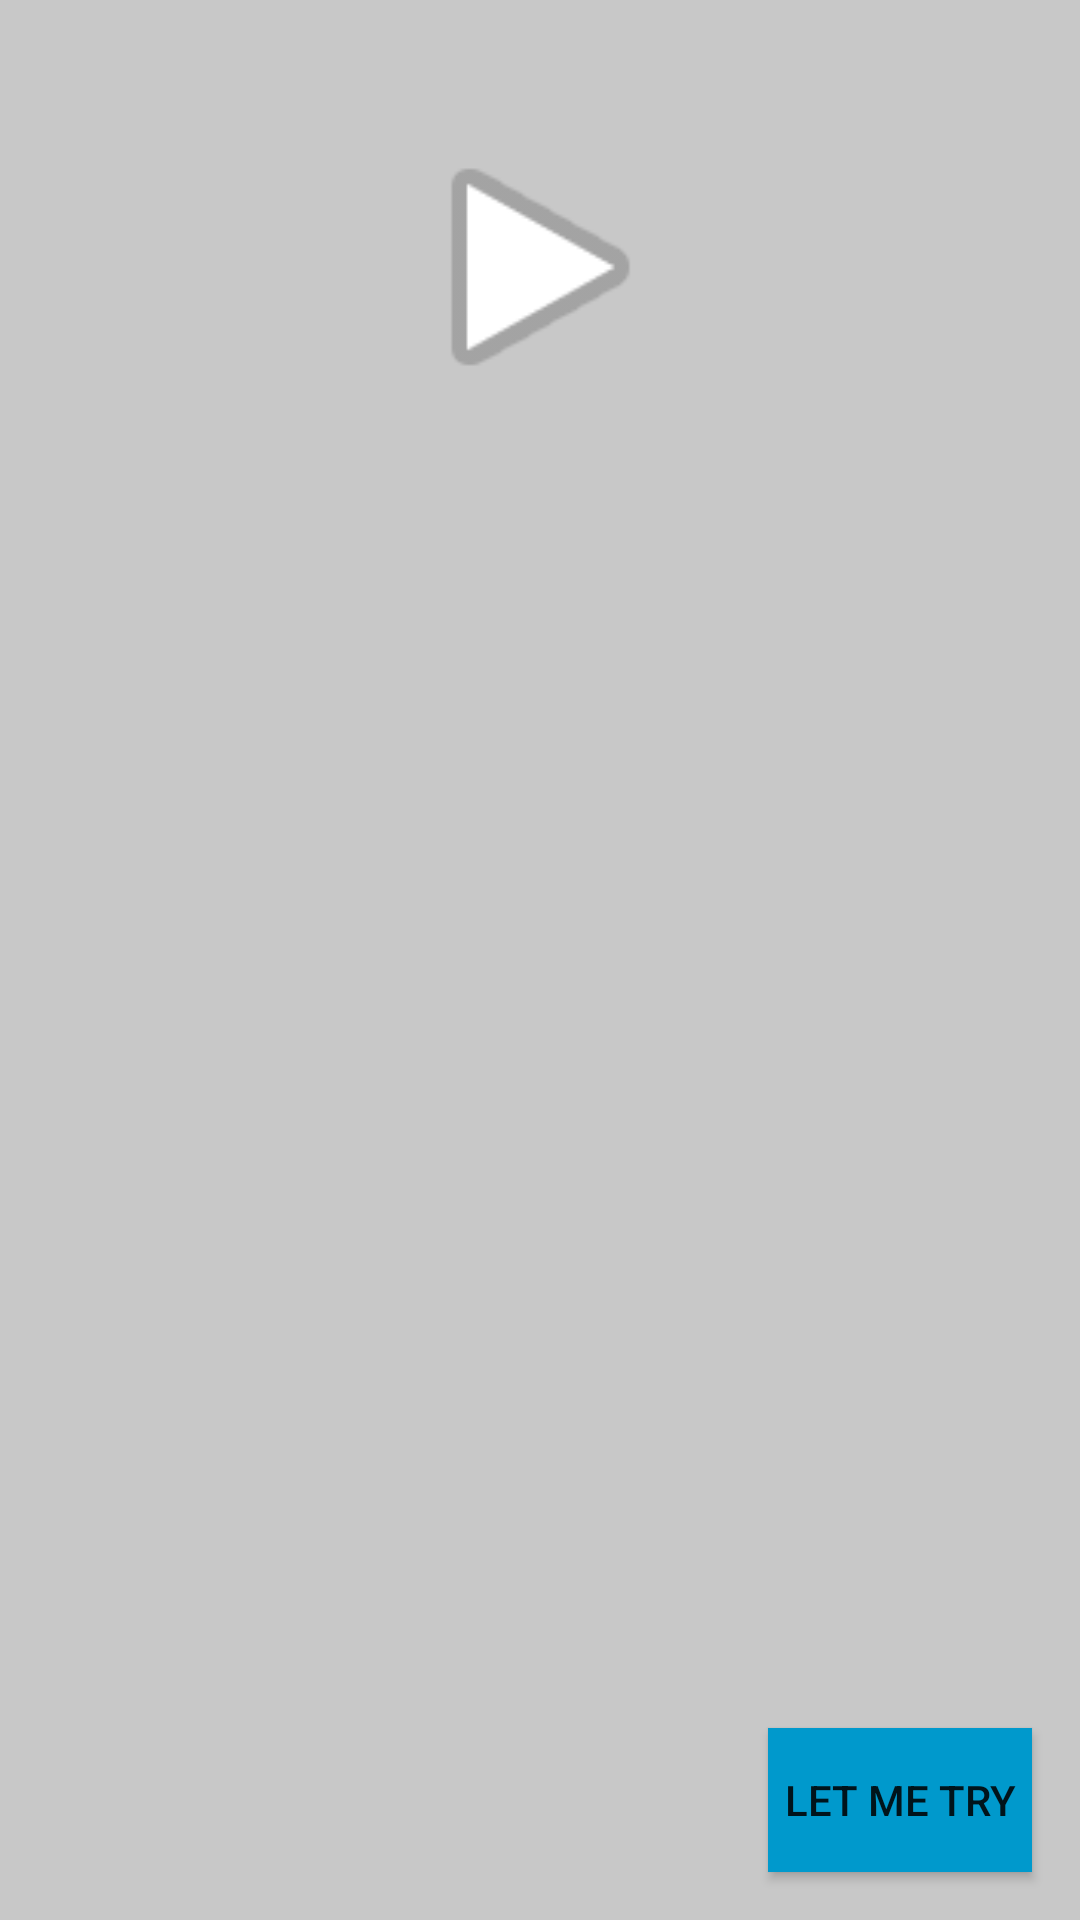

Point at icon controls on the screen. Image size 1080px×1920px, points as point (x, y).
play: point (540, 267)
